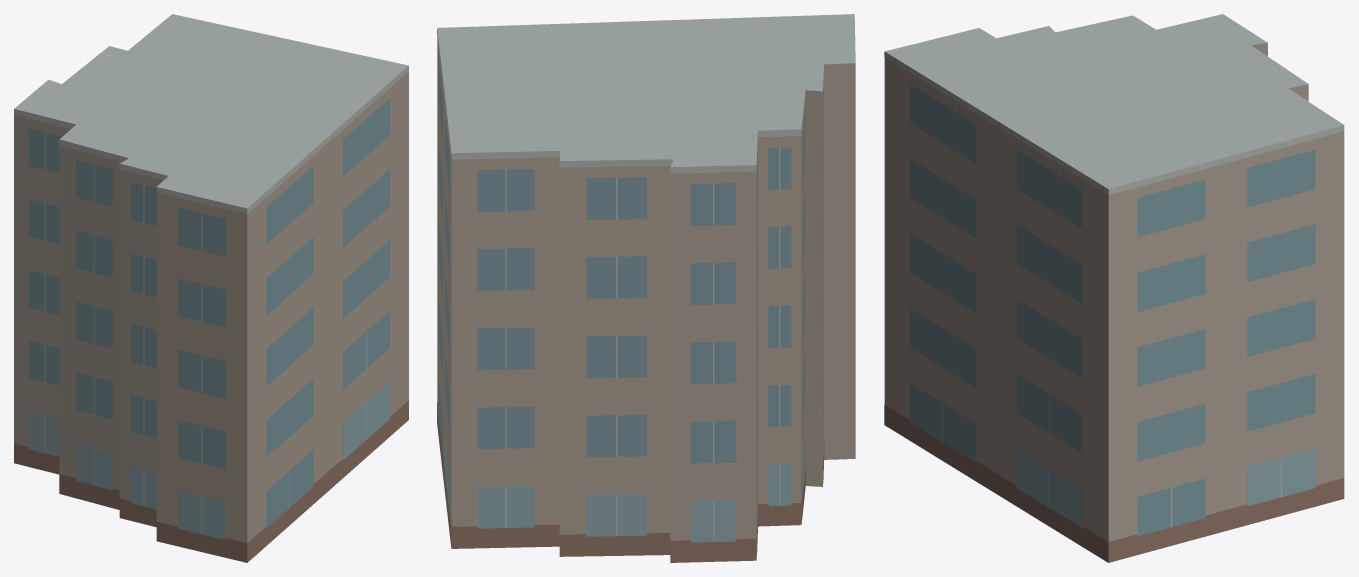
File: survey-upis-32670128.glb
3 renders of one model, left to right at view 1: azimuth 30°, elevation 25°; view 2: azimuth 150°, elevation 25°; view 3: azimuth 270°, elevation 25°, orthographic. The views are drawn at different scales.
Visible parts, largest first — view 1: survey-upis-32670128.tmp; view 2: survey-upis-32670128.tmp; view 3: survey-upis-32670128.tmp.
Boxes of the visible parts, left/top/right/bottom form: survey-upis-32670128.tmp: left=14, top=14, right=408, bottom=562; survey-upis-32670128.tmp: left=437, top=14, right=855, bottom=562; survey-upis-32670128.tmp: left=884, top=14, right=1344, bottom=562.
Size of the model in its own units: 14.99 by 14.9 by 16.62.
